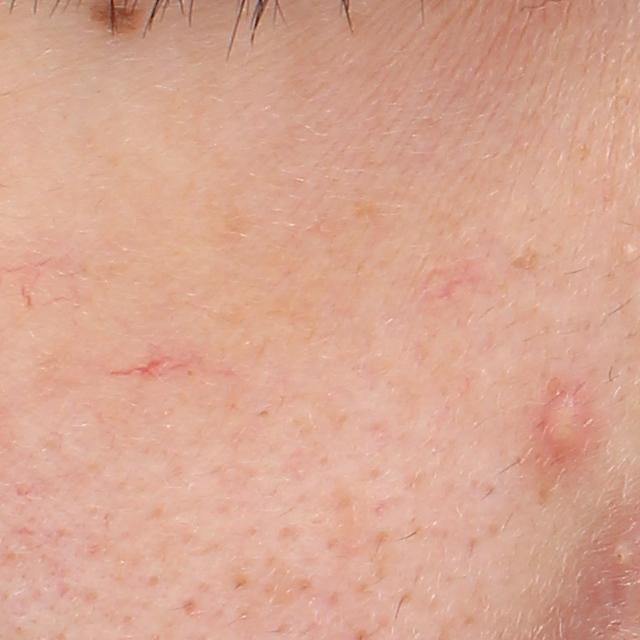comedo: (617, 240, 633, 255)
melasma: (511, 246, 544, 274)
papule: (538, 394, 590, 466)
